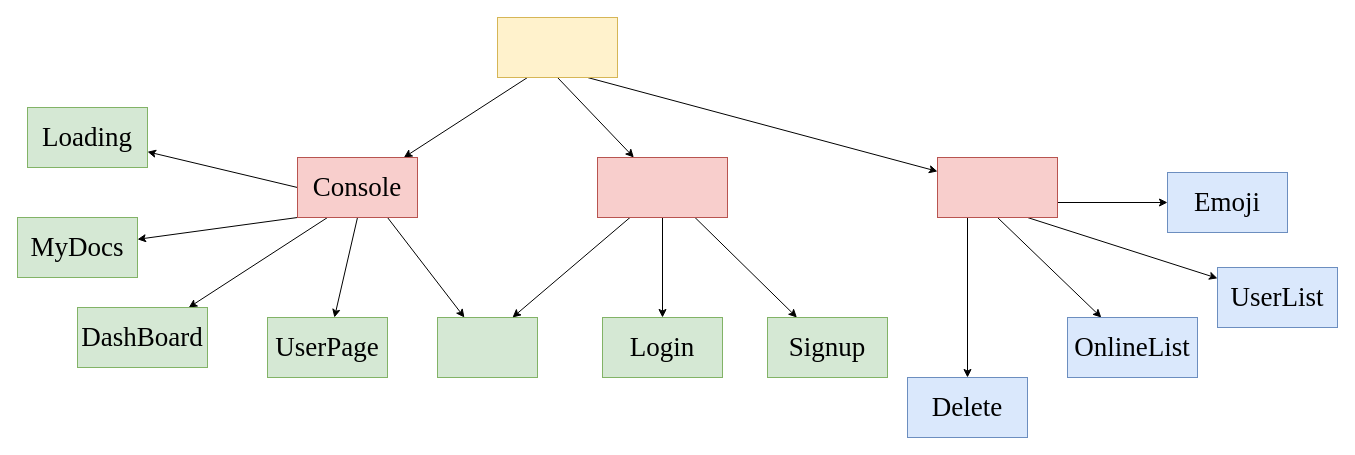
Some shapes in this 1355 by 455 pixel diagram are drawn without their labels. Each missing label, with the centre of its shape:
"App" belongs at (557,47).
"Editor" belongs at (997,187).
"HomePage" belongs at (662,187).
"Nav" belongs at (487,347).
